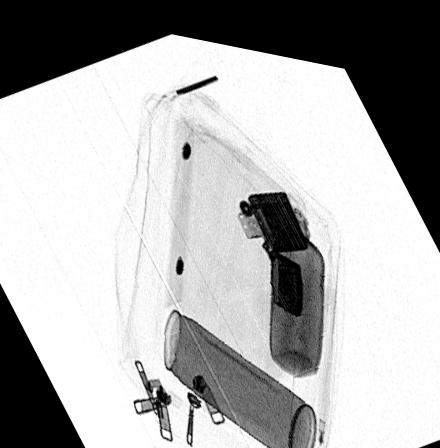Lighter: (235, 177, 309, 304)
